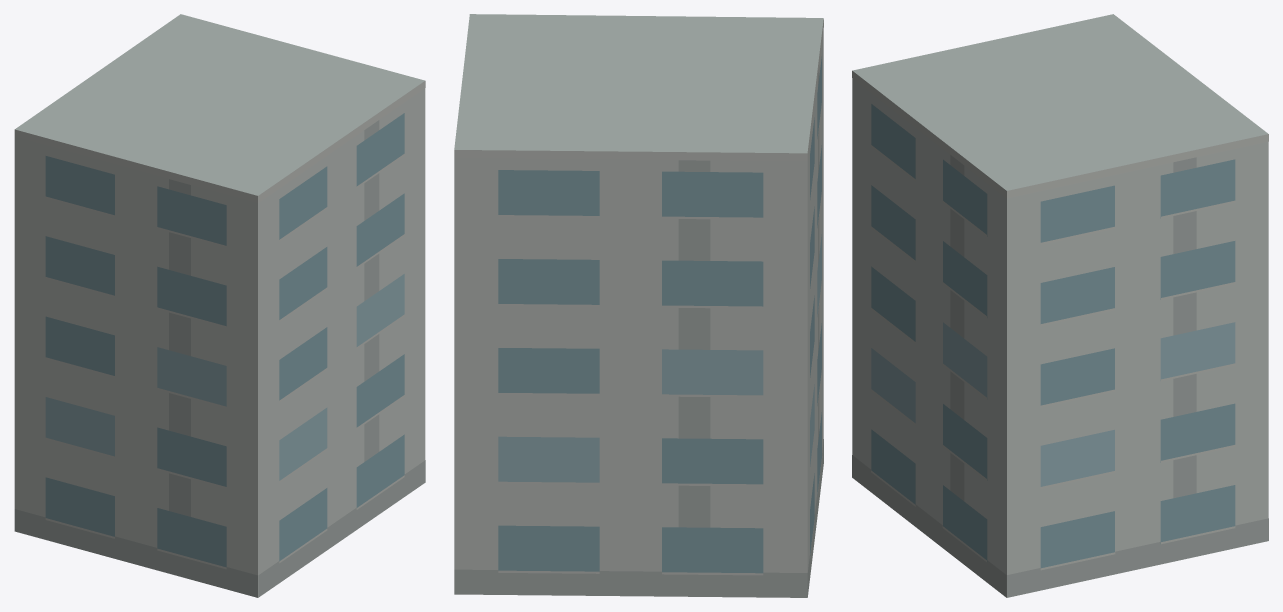
File: survey-upis-32530423.glb
3 renders of one model, left to right at view 1: azimuth 30°, elevation 25°; view 2: azimuth 150°, elevation 25°; view 3: azimuth 270°, elevation 25°, orthographic. The views are drawn at different scales.
Visible parts, largest first — view 1: survey-upis-32530423.tmp; view 2: survey-upis-32530423.tmp; view 3: survey-upis-32530423.tmp.
Boxes of the visible parts, x1,y1,x2,y2 form: survey-upis-32530423.tmp: (14, 14, 425, 597); survey-upis-32530423.tmp: (454, 14, 823, 597); survey-upis-32530423.tmp: (852, 14, 1268, 597).
Size of the model in its own units: 12.22 by 13.1 by 12.16.
